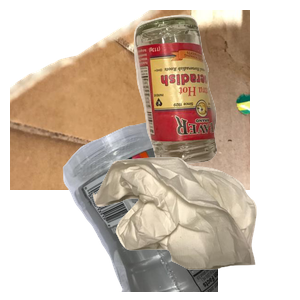cardboard: (10, 10, 250, 190)
glass: (131, 12, 300, 170)
plastic: (60, 120, 300, 300)
trash: (90, 155, 300, 300)
